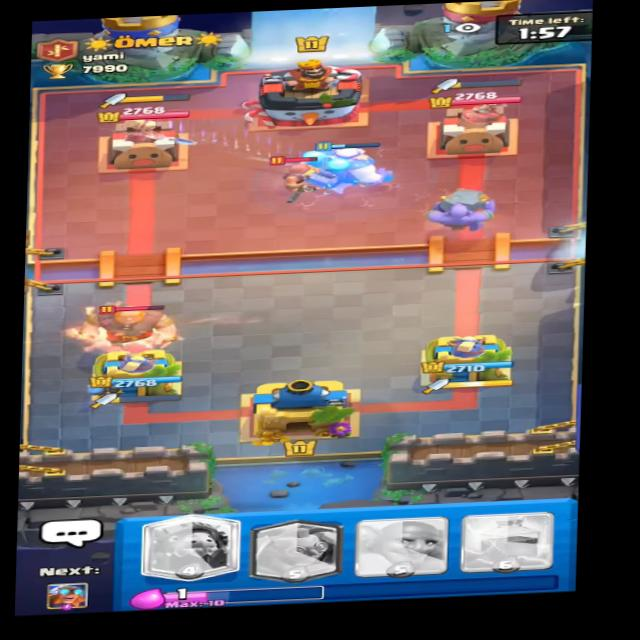Fisherman: (264, 156, 342, 201)
Giant: (77, 291, 196, 353)
